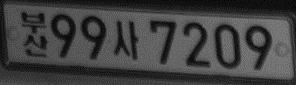0: (213, 21, 241, 70)
2: (182, 21, 210, 69)
7: (149, 19, 177, 65)
9: (244, 23, 273, 70), (49, 13, 77, 59), (80, 15, 107, 59)
부산_V: (20, 11, 48, 57)
사: (112, 20, 139, 61)
